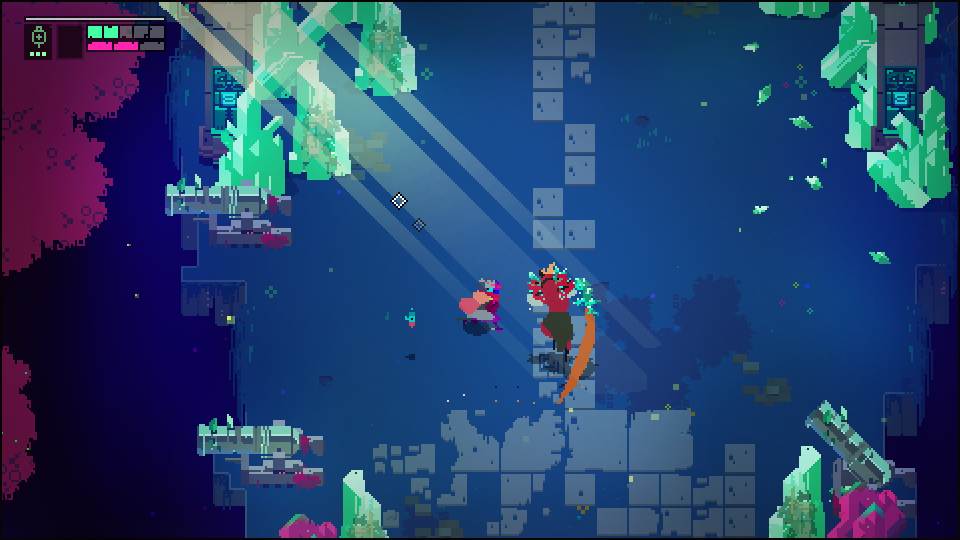hanged_man: (519, 258, 601, 371)
player: (457, 274, 499, 332)
